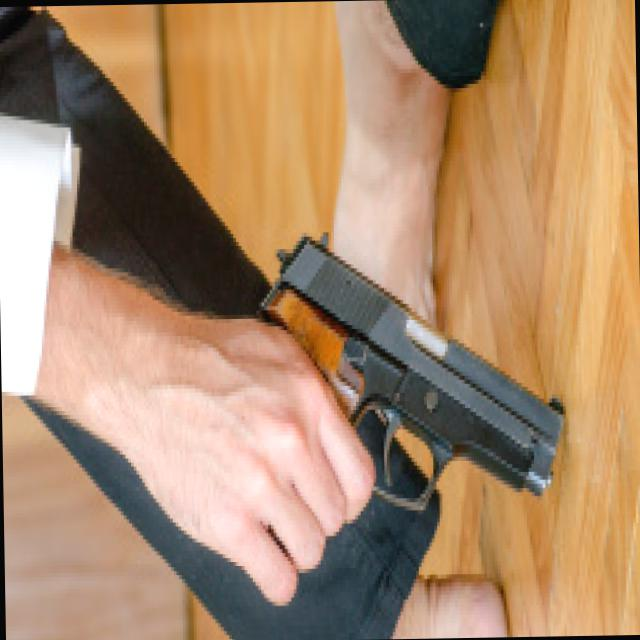handgun: (252, 227, 566, 556)
